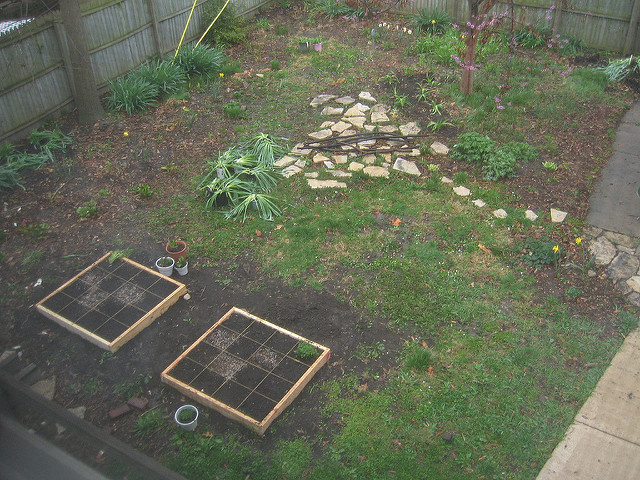container: (172, 404, 202, 433), (164, 238, 188, 258), (155, 255, 174, 277), (173, 256, 189, 275)
